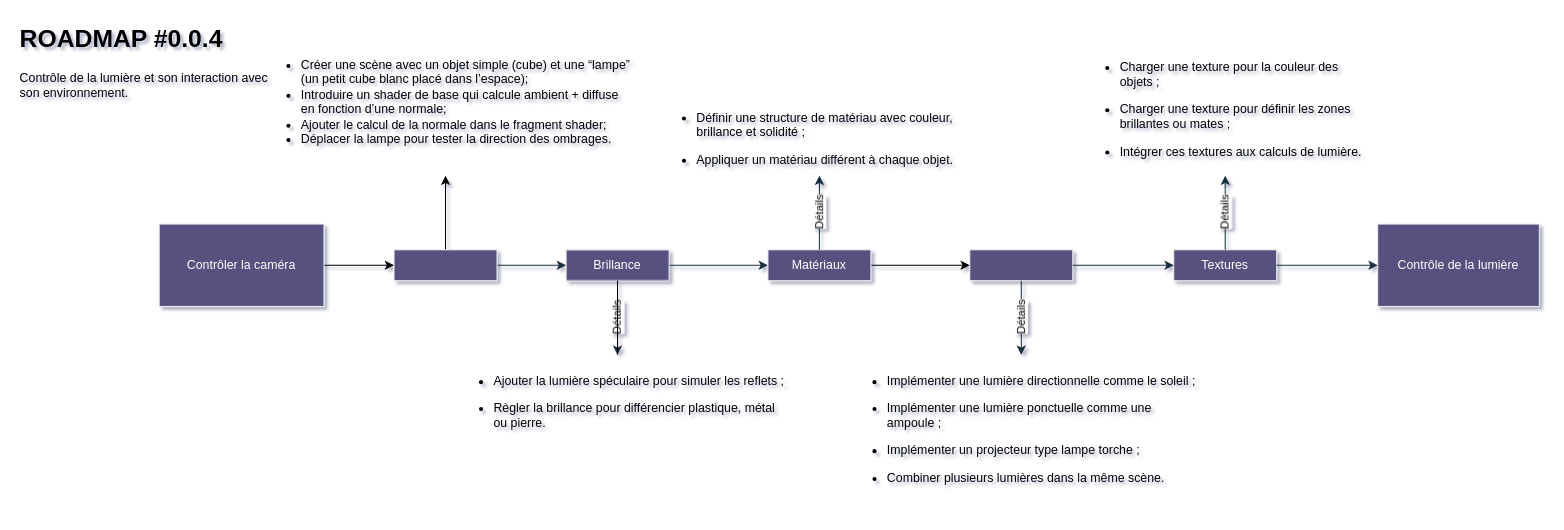
This 1564x530 diagram has some shape labels left out. Here are the shapes that lost their labels. From the top down, the box of each, then its label:
(393, 249, 497, 281): Bases de la lumière
(969, 249, 1073, 281): Types de lumières
